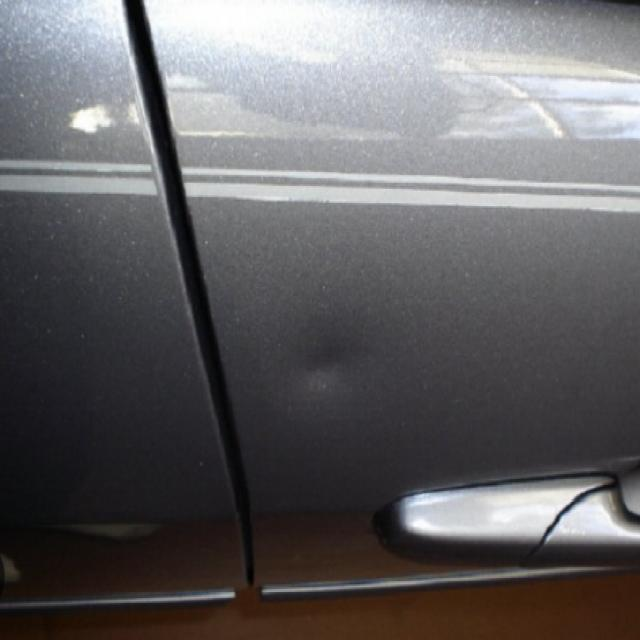dents: (294, 315, 365, 414)
